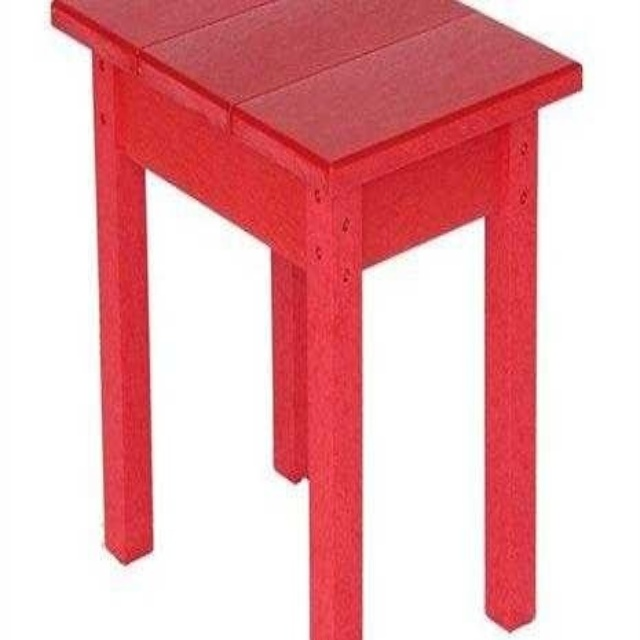obstacle: (52, 0, 581, 636)
